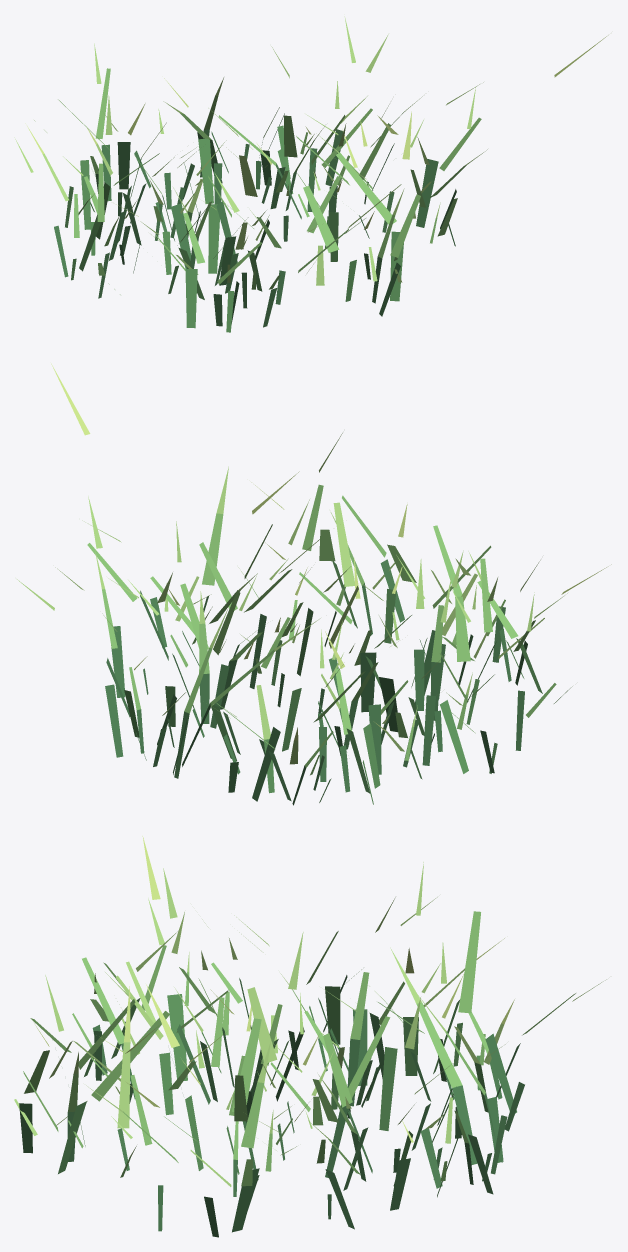
The model's file is Grass_02_Tall_LOD1.glb.
3 views of the same model, one above another, from view 1: azimuth 30°, elevation 25°; view 2: azimuth 150°, elevation 25°; view 3: azimuth 270°, elevation 25° (orthographic). The views are drawn at different scales.
Visible parts, largest first — view 1: Grass_02_Tall; view 2: Grass_02_Tall; view 3: Grass_02_Tall.
Boxes of the visible parts, x1,y1,x2,y2 form: Grass_02_Tall: [14, 16, 608, 332]; Grass_02_Tall: [17, 363, 611, 805]; Grass_02_Tall: [14, 836, 606, 1237].
Size of the model in its own units: 2.73 by 0.9995 by 2.24.
